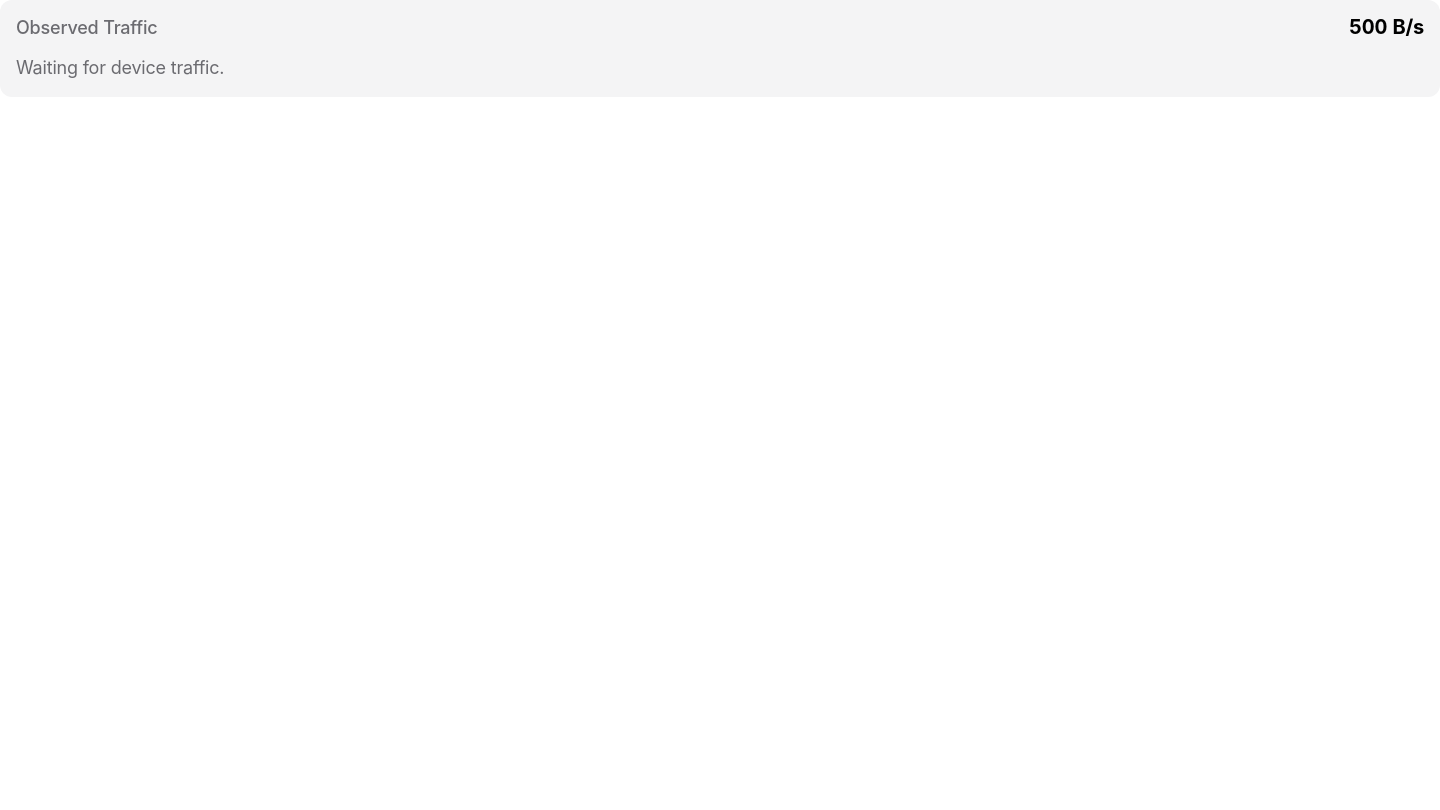
Test: opens detailed observed bandwidth without treating it as line capacity
Click the button with aria-label "Open Bandwidth Details" at (87, 27), box [0,0,1439,55]
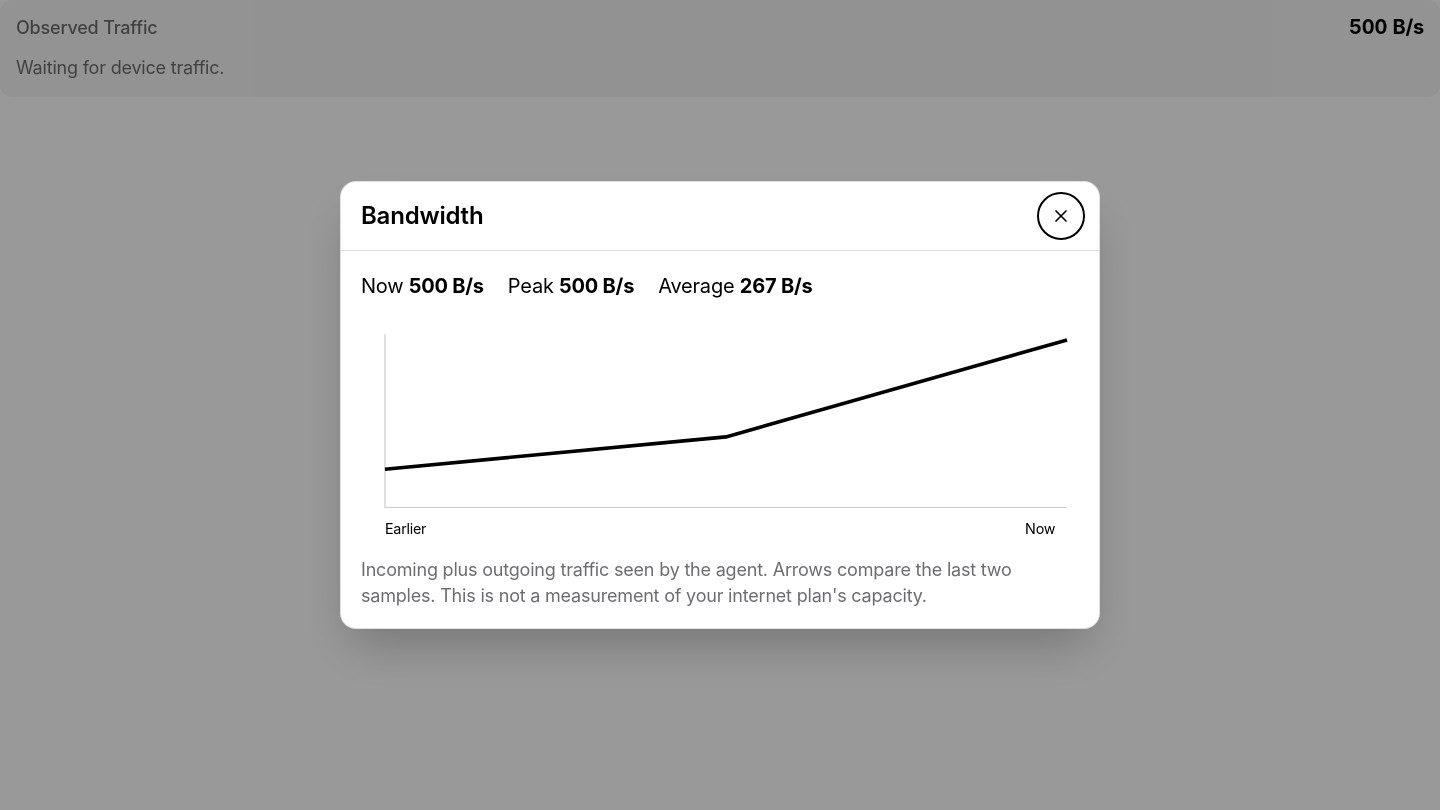
Expected: the dialog "Bandwidth" is shown, [340,181,1100,629]
Expected: the picture named "Recent observed traffic in bytes per second" is shown, [361,322,1079,537]
